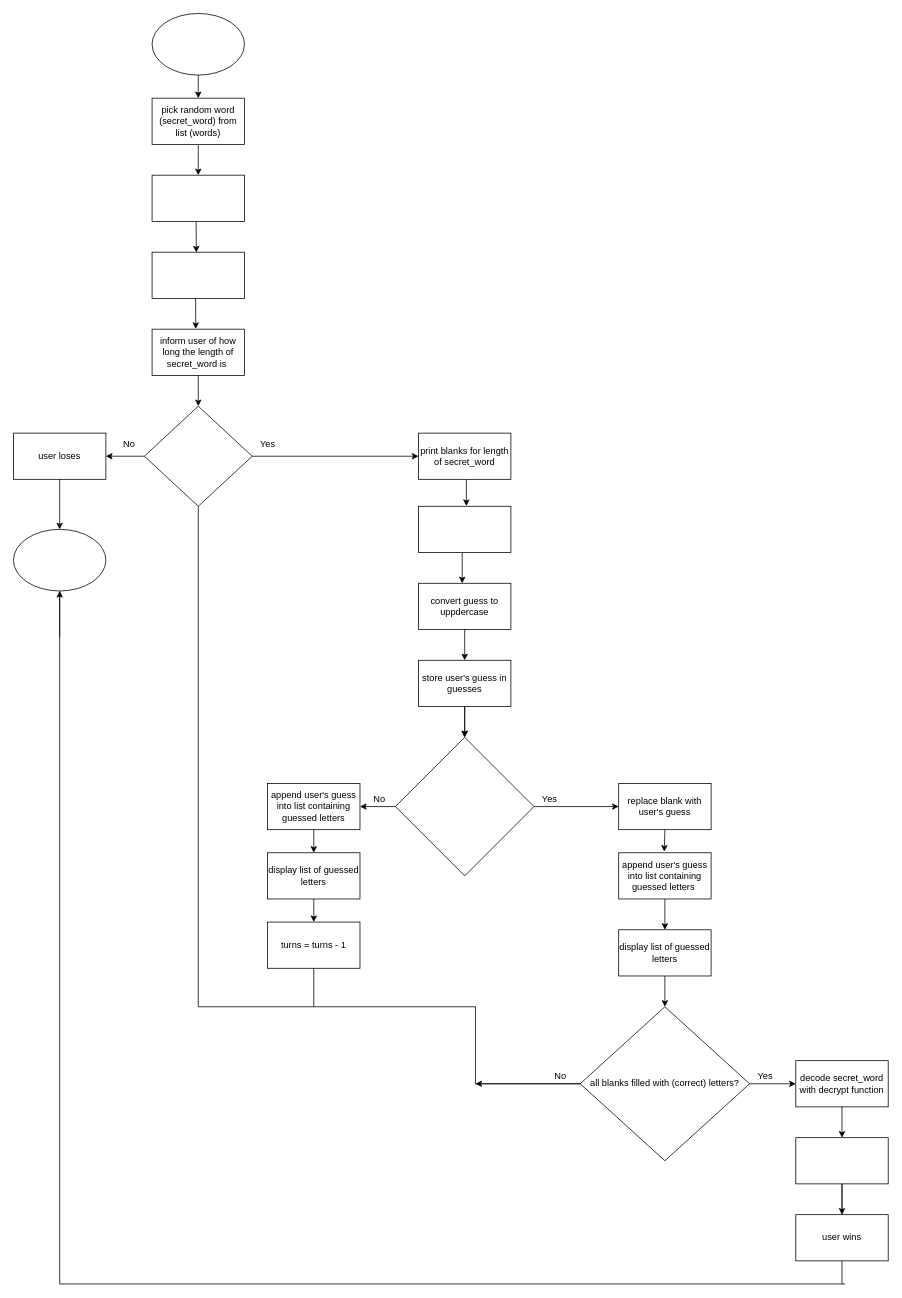
Image size: 902x1298. Some labels were removed from this diagram. The centre of each missing label's shape, as x and y in pixels:
ask user for guess (letter): the point at 464,529
display decoded secret word: the point at 841,1160
display introduction + welcome message: the point at 197,197
Start: the point at 197,44
stop: the point at 59,560
turns = 10: the point at 197,274
turns > 0?: the point at 198,455
was the user's guess correct?: the point at 464,806
